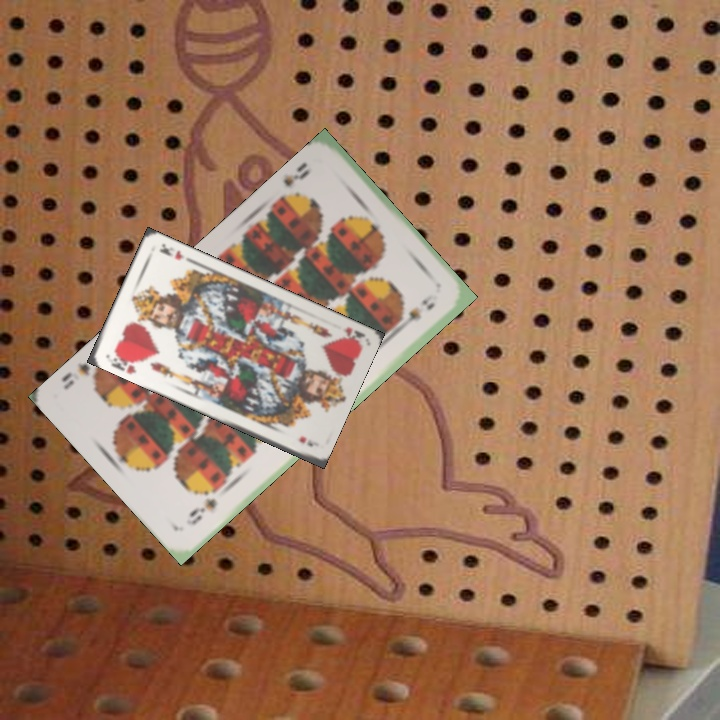HK: (107, 348, 142, 377), (339, 323, 366, 347)
S9: (275, 158, 313, 206), (182, 494, 220, 529)
